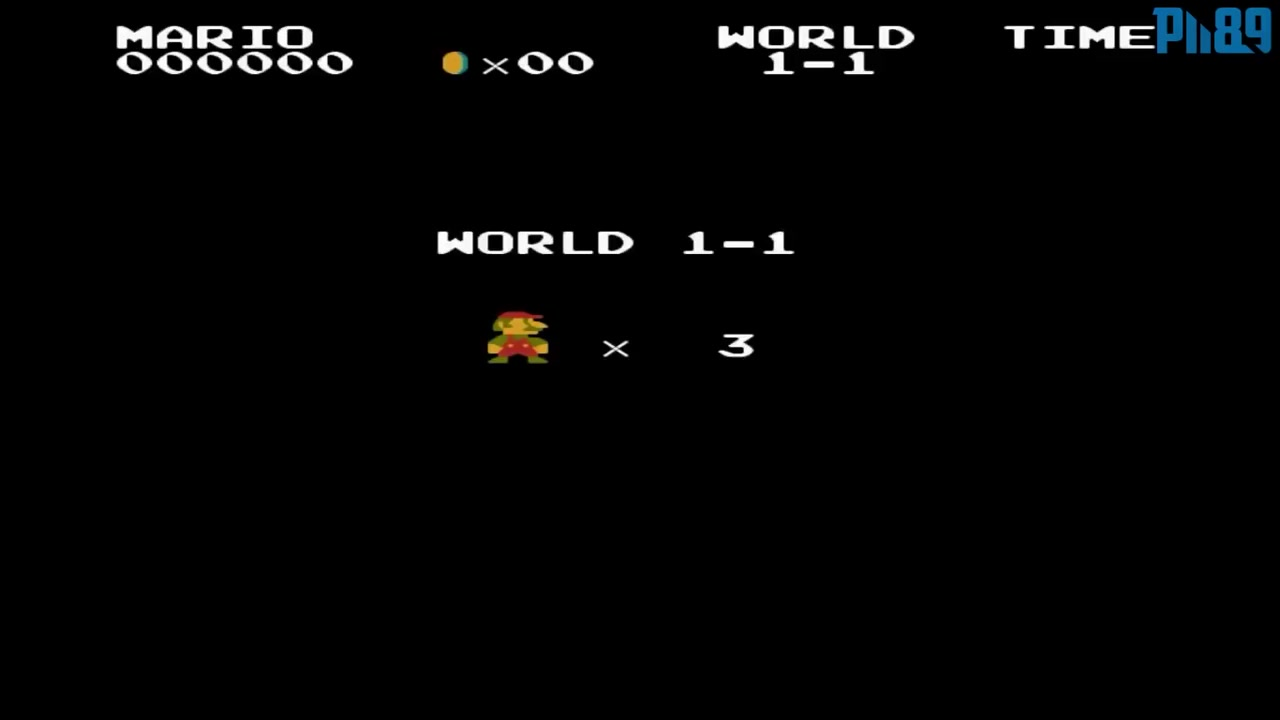mario: (475, 301, 557, 372)
